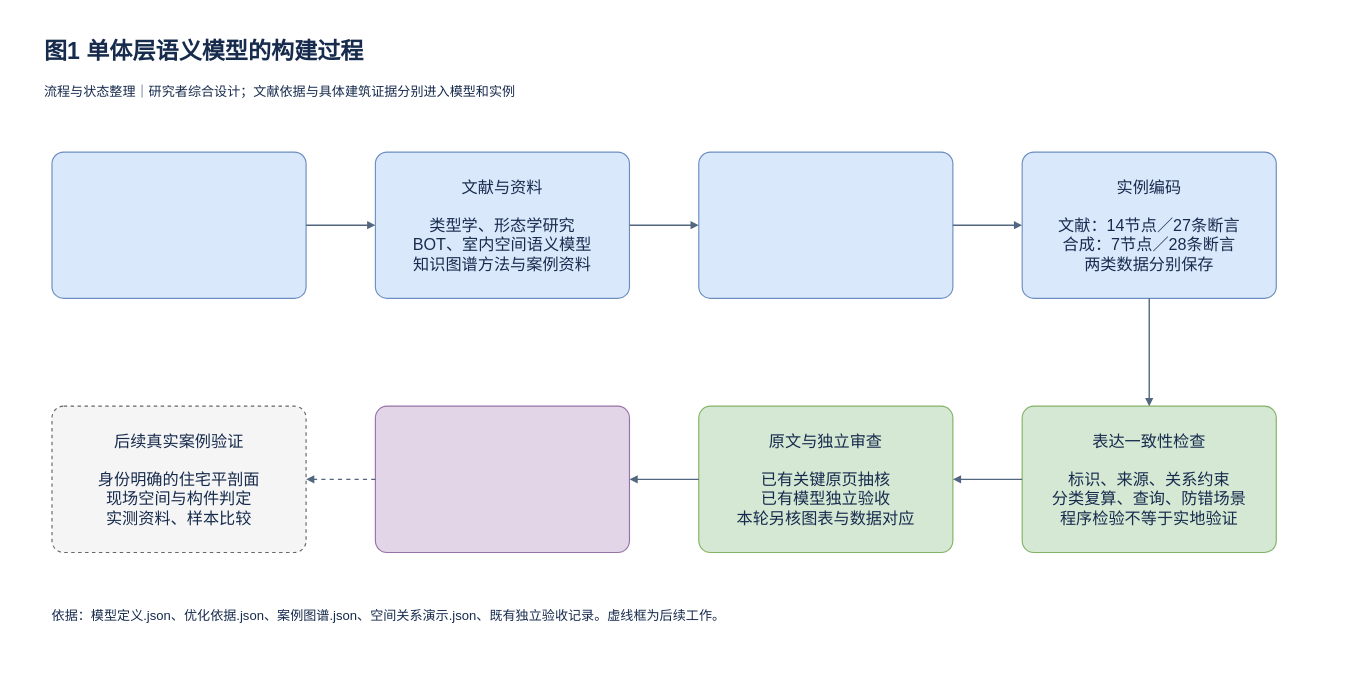
Image size: 1366x688. Some labels were removed from this diagram. Here are the shapes that lost their labels. From the top down, the centre of each, then its label:
At pixel 178 225: "研究问题 描述空间组织、实体构成 与类型特征 明确单体研究边界".
At pixel 825 225: "定义表达规则 11类概念、30项特征 18种关系及其成立条件 保存依据与适用范围".
At pixel 502 479: "论文表达草稿 概念图、关系定义表 实例编码图、查询结果表 每项保留数据与参考来源".
